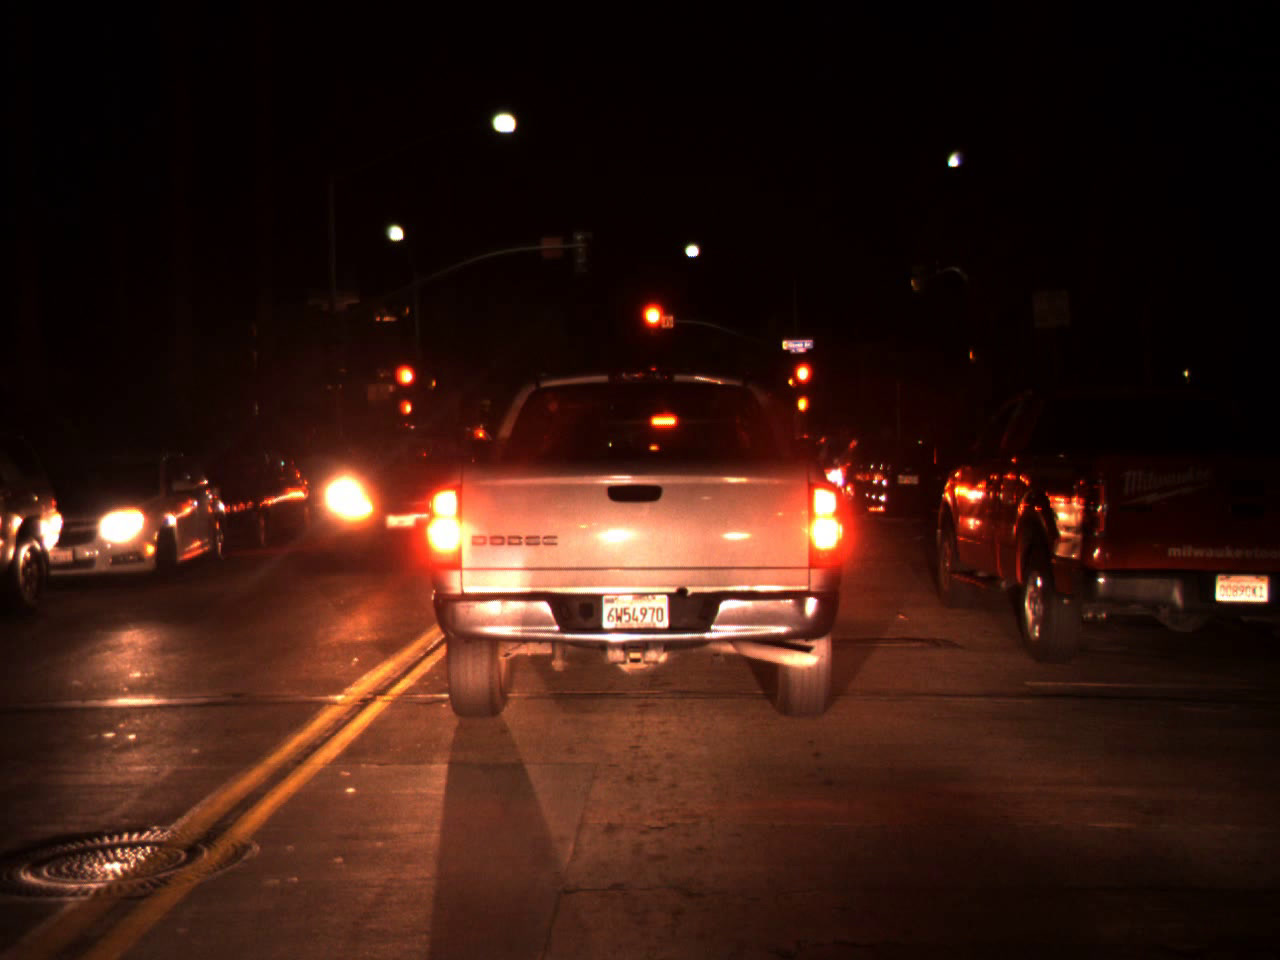stop: (641, 301, 671, 354), (391, 361, 418, 415), (792, 359, 814, 410)
